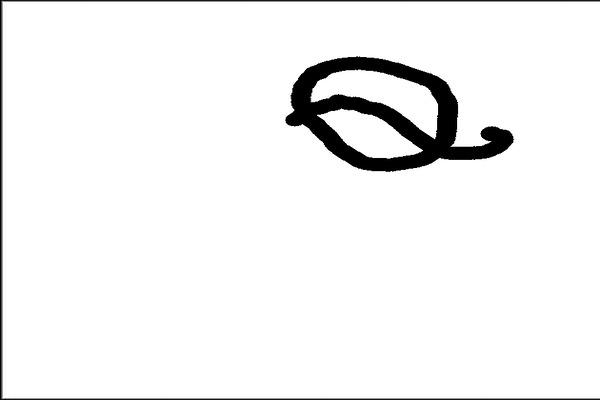Q: (278, 40, 517, 173)
